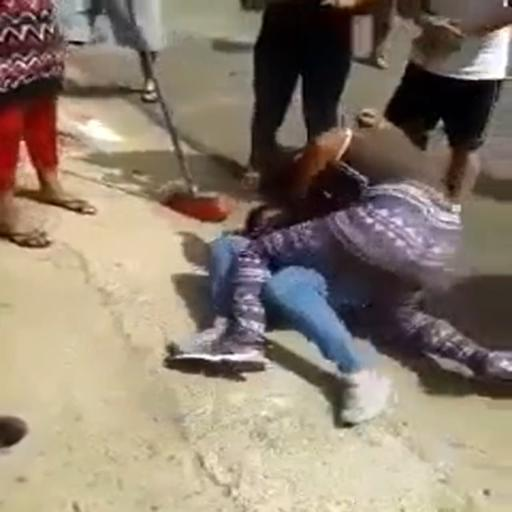violencia: (149, 97, 512, 432)
